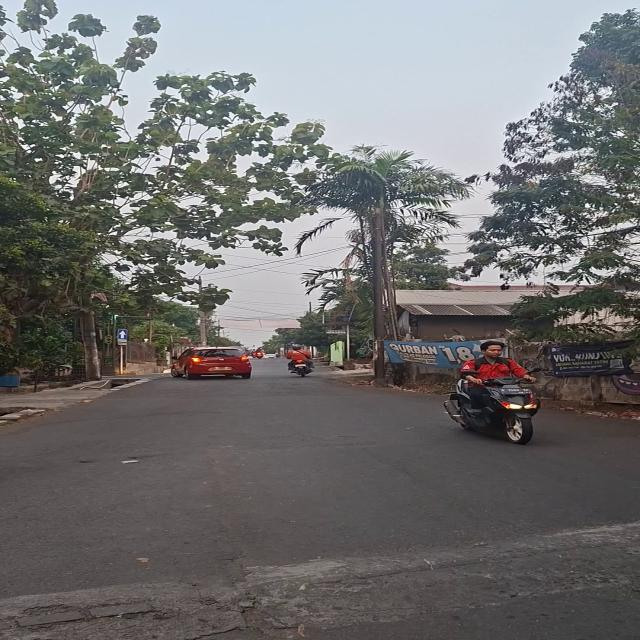WithHelmet: (285, 345, 316, 373), (254, 347, 264, 357)
WithoutHelmet: (451, 339, 547, 451)
